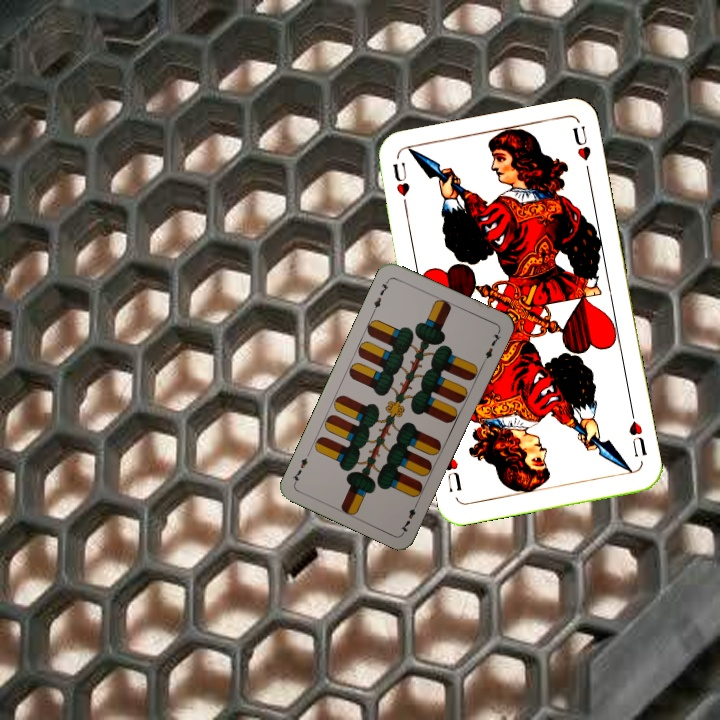E7: (397, 497, 421, 535), (369, 276, 392, 314)
HU: (389, 158, 413, 214), (625, 417, 650, 460)
